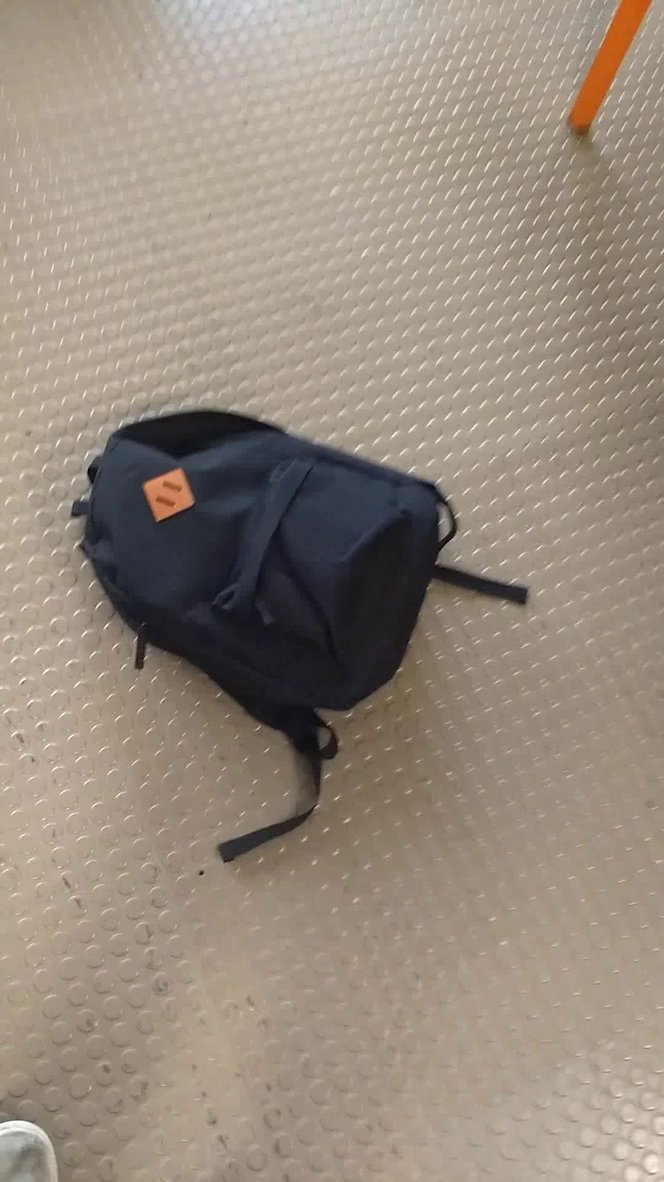bag: (60, 394, 535, 880)
